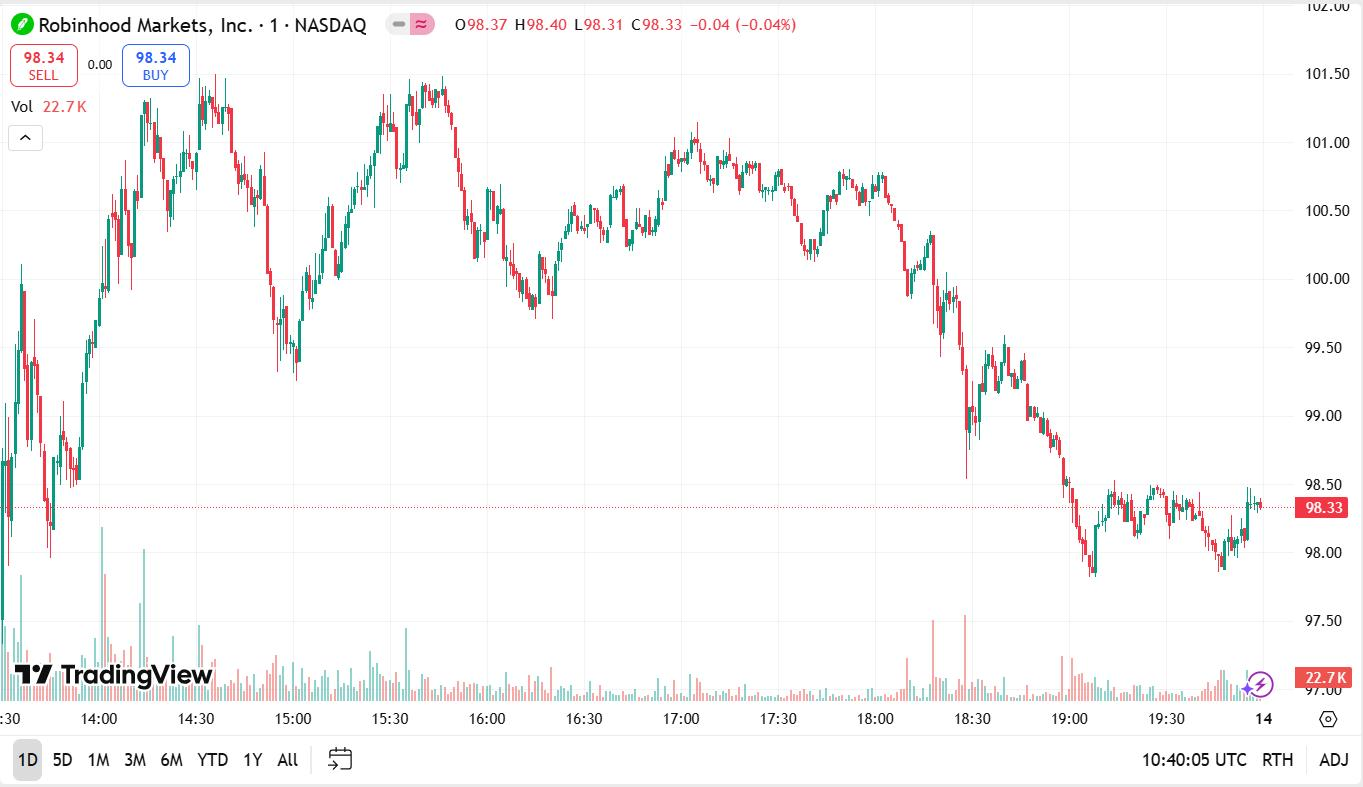Downtrend: (872, 174, 979, 458), (431, 77, 542, 335), (1008, 348, 1095, 593), (218, 89, 289, 379)
Sideways: (1110, 483, 1211, 548), (707, 154, 792, 206)
Uptrend: (293, 79, 441, 368), (75, 92, 154, 483), (550, 112, 702, 312)
